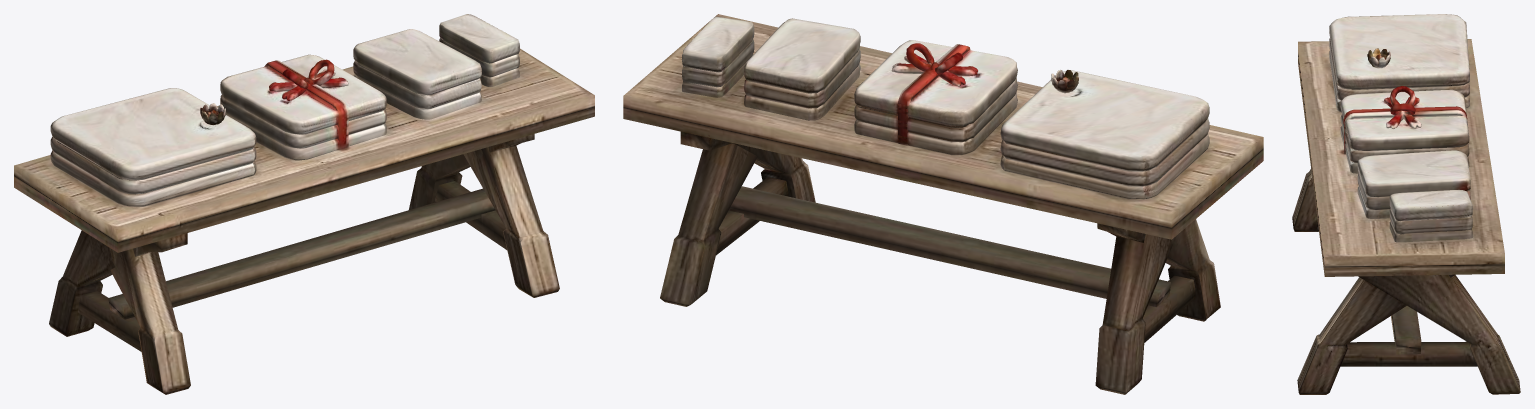
Rendered from act1-a24-3-linen-folding-table.glb.
3 renders of one model, left to right at view 1: azimuth 30°, elevation 25°; view 2: azimuth 150°, elevation 25°; view 3: azimuth 270°, elevation 25°, orthographic. The views are drawn at different scales.
Visible parts, largest first — view 1: act1-a24-3-linen-folding-table; view 2: act1-a24-3-linen-folding-table; view 3: act1-a24-3-linen-folding-table.
Boxes of the visible parts, <box> form: act1-a24-3-linen-folding-table: <box>14,14,594,394</box>; act1-a24-3-linen-folding-table: <box>623,14,1263,394</box>; act1-a24-3-linen-folding-table: <box>1292,14,1520,394</box>.
Size of the model in its own units: 2.4 by 1.09 by 1.03.
1 material, 1 textured.
